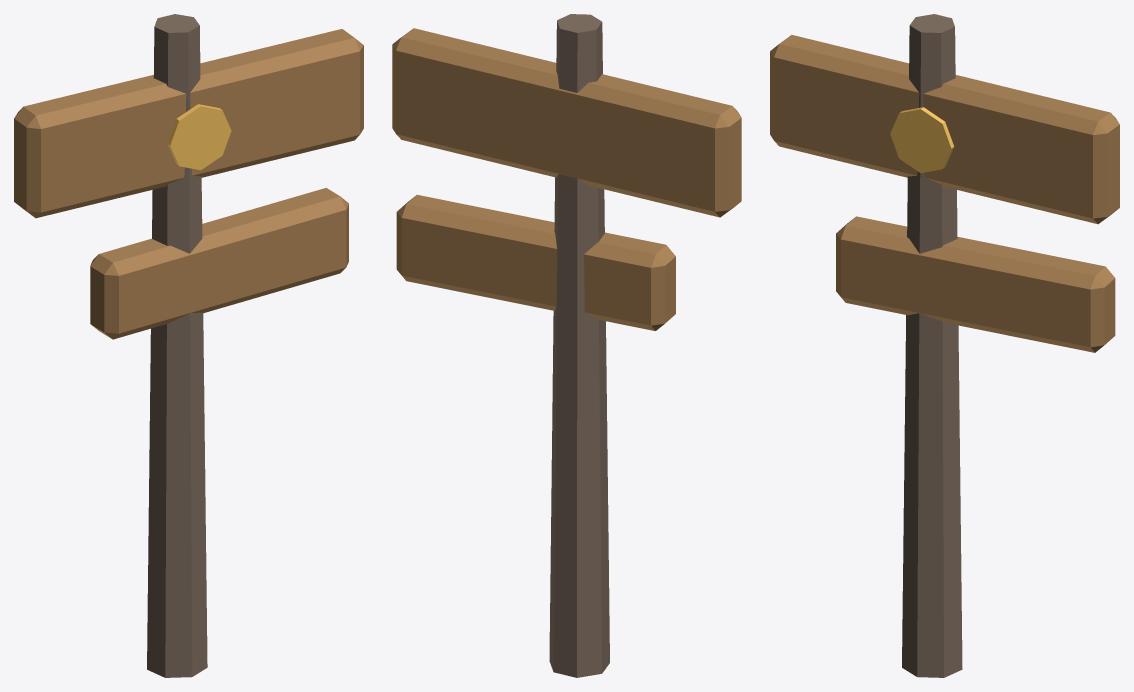
File: enfeite_placa.glb
3 renders of one model, left to right at view 1: azimuth 30°, elevation 25°; view 2: azimuth 150°, elevation 25°; view 3: azimuth 330°, elevation 25°, orthographic.
Visible parts, largest first — view 1: pedreira_enfeite_placa; view 2: pedreira_enfeite_placa; view 3: pedreira_enfeite_placa.
Boxes of the visible parts, bbox=[...] form: pedreira_enfeite_placa: bbox=[14, 14, 363, 677]; pedreira_enfeite_placa: bbox=[392, 14, 741, 677]; pedreira_enfeite_placa: bbox=[770, 14, 1119, 677].
Size of the model in its own units: 0.55 by 1 by 0.099.
